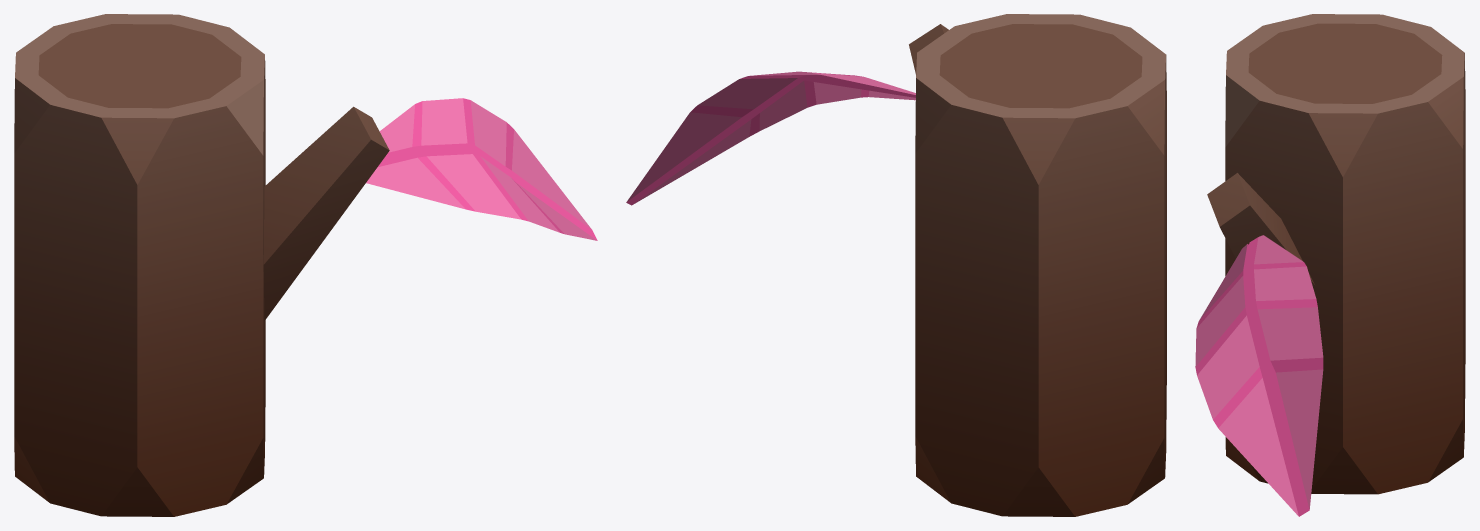
Rendered from Sacura_farm.fbx.
3 renders of one model, left to right at view 1: azimuth 30°, elevation 25°; view 2: azimuth 150°, elevation 25°; view 3: azimuth 270°, elevation 25°, orthographic. The views are drawn at different scales.
Visible parts, largest first — view 1: Sacura_farm; view 2: Sacura_farm; view 3: Sacura_farm.
Part boxes in pixels (box(x1,y1,x2,y2)): Sacura_farm: box(14, 14, 597, 516); Sacura_farm: box(626, 14, 1166, 516); Sacura_farm: box(1195, 14, 1465, 516).
Bounding box in the file's own units: 0.9595 × 0.4209 × 0.6548.
